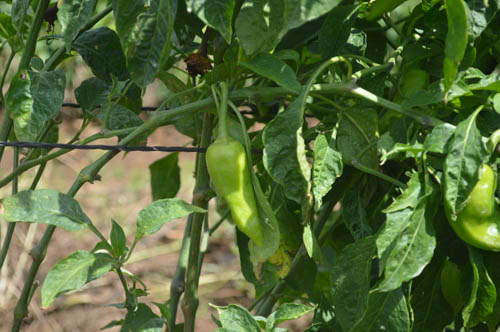ChiliPepper: (206, 143, 260, 244), (447, 167, 499, 256)
